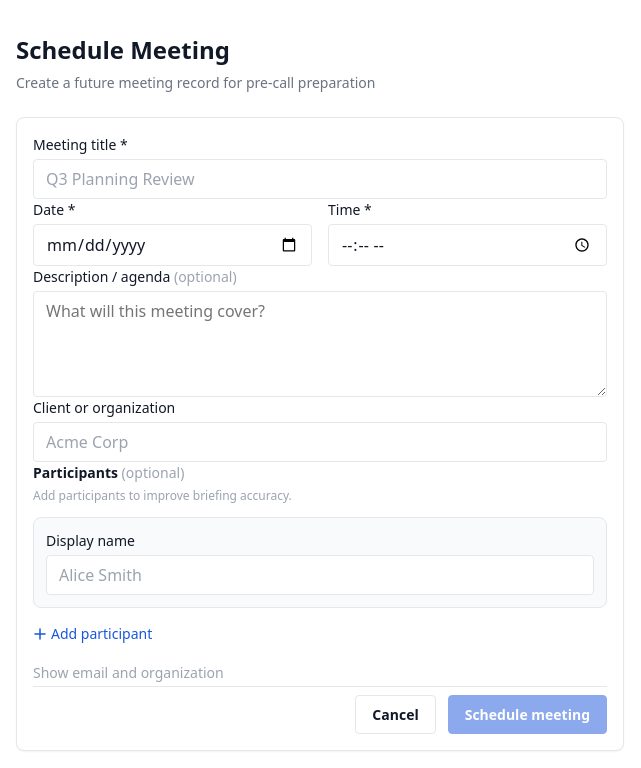
Test: NewMeetingPage — participant rows (FR-22) › hides email and organization when toggled off
What coordinates should you click on to do the following:
click the button "Show email and organization"
I would click on:
 (128, 672)
Its box is [33, 659, 607, 686].
(page scrolled)
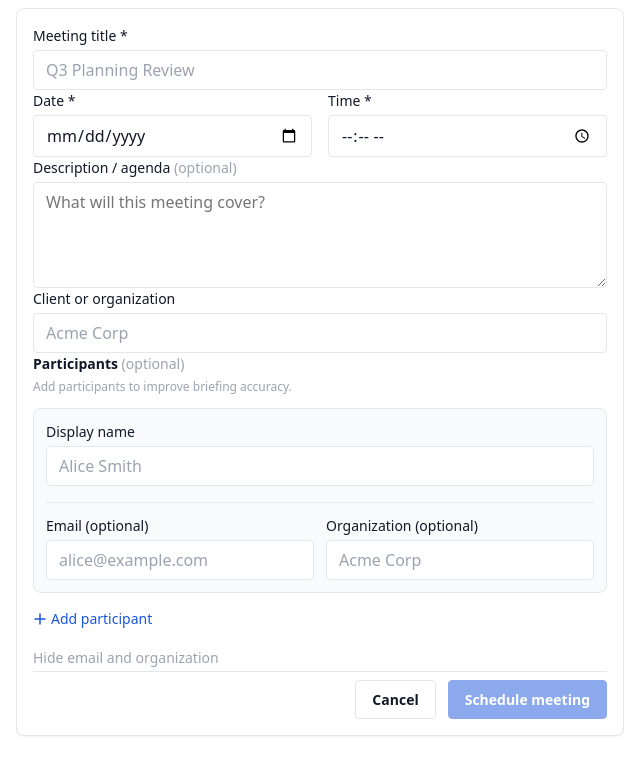
What coordinates should you click on to do the following:
click the button named "show email and organization"
I would click on:
 (126, 658)
Its box is [33, 644, 607, 671].
(page scrolled)
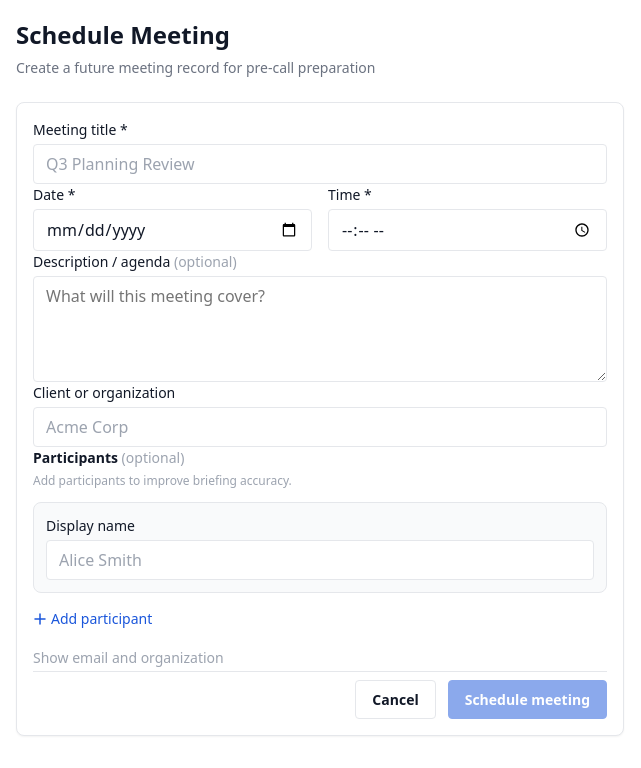
Expected: the label labelled "Email (optional)" is gone
